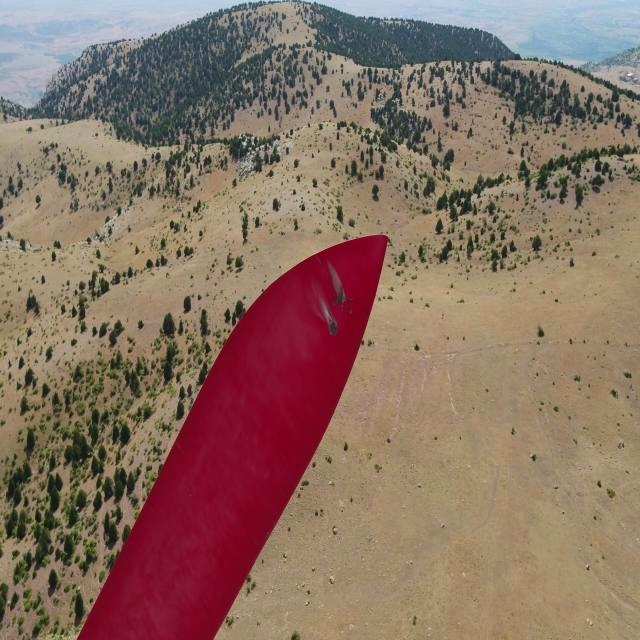Coating_defects: (327, 283, 354, 308), (321, 314, 345, 340)
